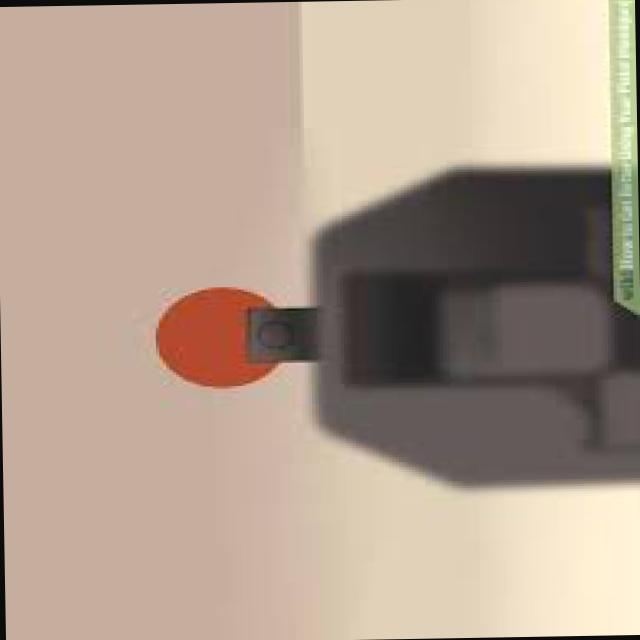handgun: (122, 170, 640, 495)
